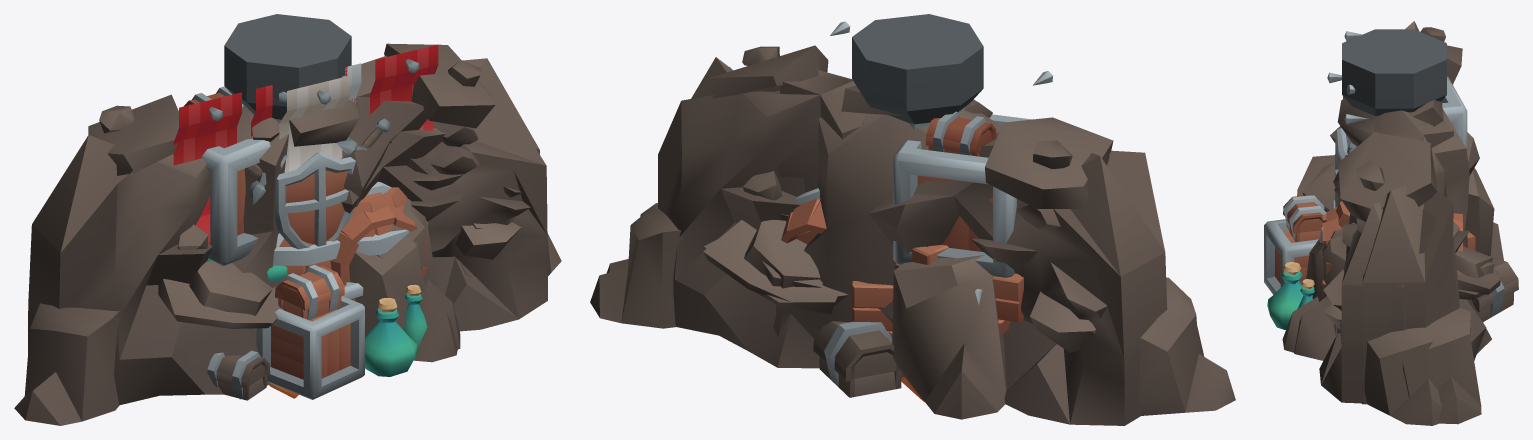
3 renders of one model, left to right at view 1: azimuth 30°, elevation 25°; view 2: azimuth 150°, elevation 25°; view 3: azimuth 270°, elevation 25°, orthographic. The views are drawn at different scales.
Visible parts, largest first — view 1: rubble_large, box_stacked, rubble_half, pillar_decorated, pillar, banner_triple_red, keg_decorated, barrel_large, banner_patternA_red; view 2: rubble_large, rubble_half, box_stacked, pillar, keg_decorated, crates_stacked; view 3: rubble_half, rubble_large, box_stacked, pillar, keg_decorated, pillar_decorated, banner_triple_red.
Part boxes in pixels (box(x1,y1,x2,y2)): rubble_large: box(14, 83, 561, 425); box_stacked: box(178, 86, 427, 400); rubble_half: box(341, 43, 539, 349); pillar_decorated: box(245, 75, 390, 249); pillar: box(224, 14, 351, 123); banner_triple_red: box(173, 44, 438, 243); keg_decorated: box(207, 182, 427, 300); barrel_large: box(273, 237, 340, 282); banner_patternA_red: box(251, 63, 361, 136); rubble_large: box(607, 67, 1235, 425); rubble_half: box(590, 45, 865, 368); box_stacked: box(813, 111, 1032, 397); pillar: box(852, 14, 983, 129); keg_decorated: box(781, 188, 1023, 334); crates_stacked: box(852, 245, 948, 377); rubble_half: box(1294, 110, 1500, 424); rubble_large: box(1282, 21, 1503, 425); box_stacked: box(1264, 76, 1518, 329); pillar: box(1342, 29, 1446, 115); keg_decorated: box(1322, 207, 1462, 289); pillar_decorated: box(1327, 72, 1356, 207); banner_triple_red: box(1344, 31, 1368, 124).
Bounding box in the file's own units: 8.13 × 4.82 × 3.63.
Materials: 1 (1 with a texture image).
